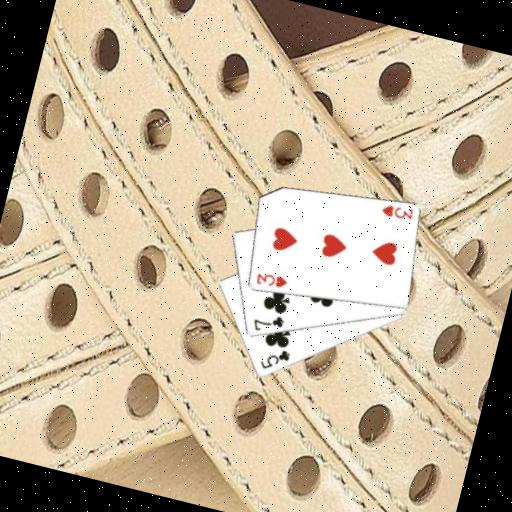3H: (377, 199, 416, 225), (252, 268, 290, 293)
5C: (256, 342, 293, 376)
7C: (249, 308, 287, 339)
